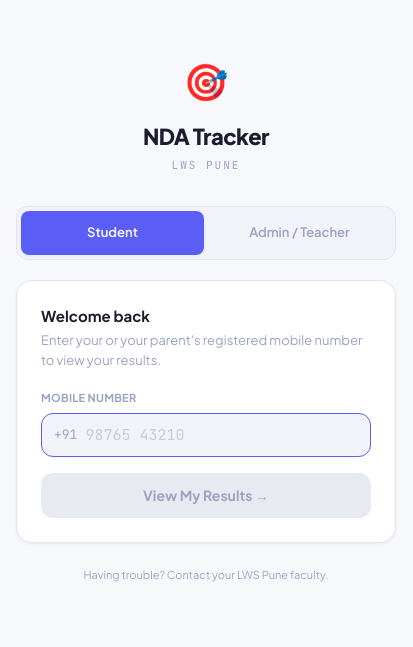
LoginPage — Admin / Teacher tab (unified) › shows email and password inputs in the staff tab
Step 1. Click the button "Admin / Teacher" → (300, 233), box [208,211,391,255]
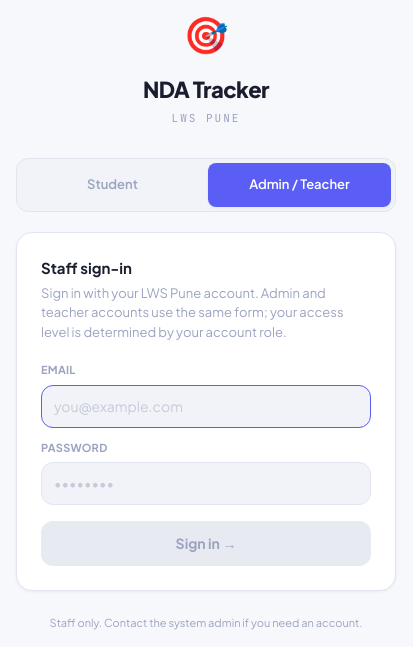
Expected: the field labelled "Email" is shown, [41,384,371,428]
Expected: the password field labelled "Password" is shown, [41,462,371,505]
